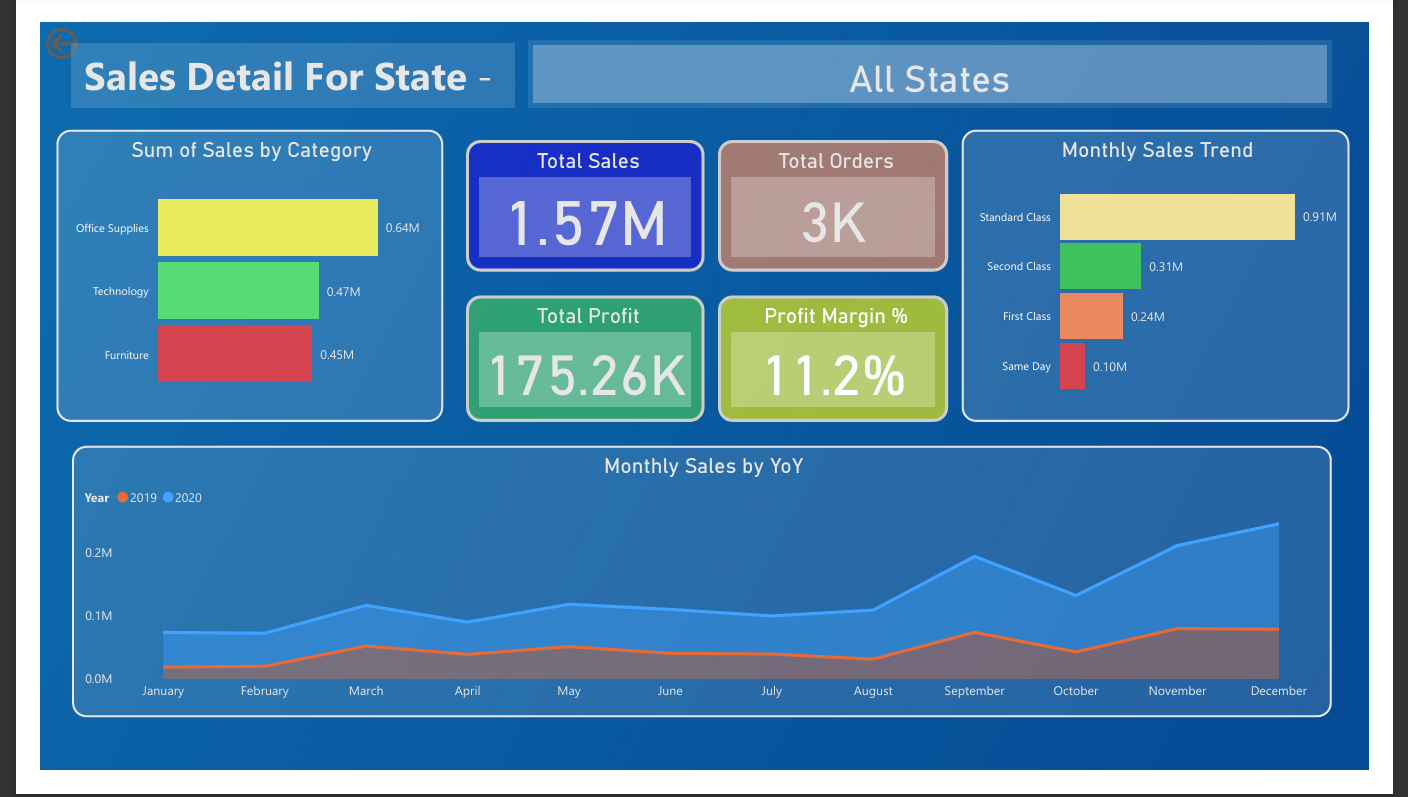

The dashboard page shown, as its layout file describes it:
{"tool":"powerbi","page":{"name":"State Detail","canvas":[1280,720],"ordinal":2},"visuals":[{"type":"actionButton","box":[0,0,100,40],"z":0},{"type":"cardVisual","title":"Total Sales","fields":{"Data":["Sum(SuperStore_Sales_Dataset.Sales)"]},"box":[410,113.3,230,126.7],"z":1000},{"type":"cardVisual","title":"Total Profit","fields":{"Data":["Sum(SuperStore_Sales_Dataset.Profit)"]},"box":[410,263.3,230,121.7],"z":2000},{"type":"cardVisual","title":"Profit Margin %","fields":{"Data":["SalesForecast.Profit Margin %"]},"box":[653.3,263.3,221.7,121.7],"z":3000},{"type":"cardVisual","title":"Total Orders","fields":{"Data":["SalesForecast.Total Orders"]},"box":[653.3,113.3,221.7,126.7],"z":4000},{"type":"clusteredBarChart","fields":{"Category":["SuperStore_Sales_Dataset.Category"],"Y":["Sum(SuperStore_Sales_Dataset.Sales)"]},"box":[15,103.3,373.3,281.7],"z":5000},{"type":"clusteredBarChart","title":"Monthly Sales Trend","fields":{"Category":["SuperStore_Sales_Dataset.Ship Mode"],"Y":["Sum(SuperStore_Sales_Dataset.Sales)"]},"box":[888.3,103.3,373.3,281.7],"z":6000},{"type":"textbox","box":[30,20,428.3,61.7],"z":7000},{"type":"stackedAreaChart","title":"Monthly Sales by YoY ","fields":{"Y":["Sum(SuperStore_Sales_Dataset.Sales)"],"Category":["SuperStore_Sales_Dataset.Order Date.Variation.Date Hierarchy.Month"],"Series":["SuperStore_Sales_Dataset.Order Date.Variation.Date Hierarchy.Year"]},"box":[30,408.3,1215,261.7],"z":7001},{"type":"cardVisual","fields":{"Data":["SalesForecast.Selected State"]},"box":[470,16.7,775,65],"z":7002}]}

Visuals, with their boxes in screenshot pixels (x1, y1, x2, y2), scaled from the page's 1280x720 canvas onto the 1408x797 screenshot:
actionButton: (0,0,110,44)
"Total Sales" cardVisual: (451,125,704,266)
"Total Profit" cardVisual: (451,291,704,426)
"Profit Margin %" cardVisual: (719,291,963,426)
"Total Orders" cardVisual: (719,125,963,266)
clusteredBarChart - SuperStore_Sales_Dataset.Category x Sum(SuperStore_Sales_Dataset.Sales): (16,114,427,426)
"Monthly Sales Trend" clusteredBarChart: (977,114,1388,426)
textbox: (33,22,504,90)
"Monthly Sales by YoY " stackedAreaChart: (33,452,1370,742)
cardVisual - SalesForecast.Selected State: (517,18,1370,90)
